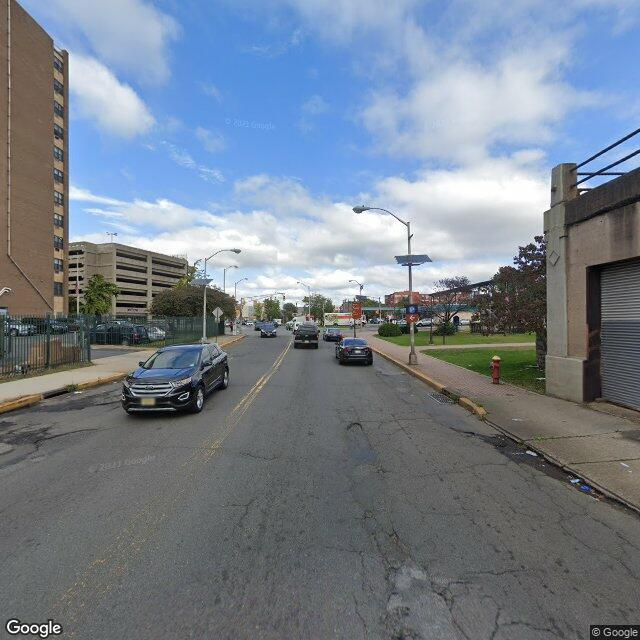pothole: (18, 425, 56, 449), (387, 618, 421, 640), (383, 559, 402, 581), (343, 420, 365, 436)
